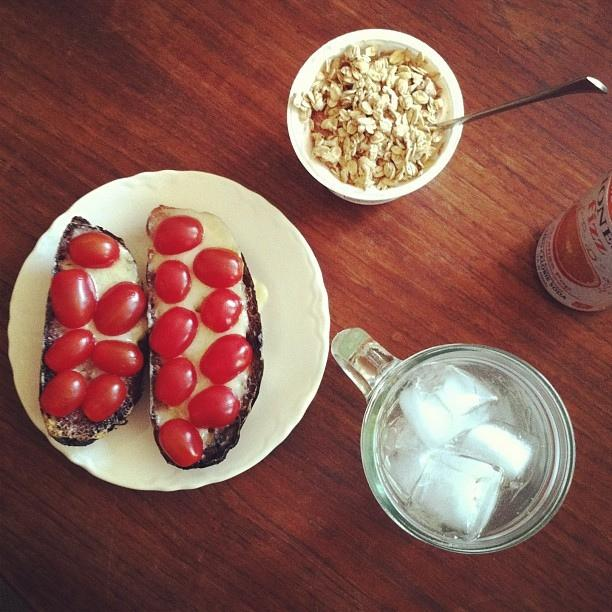tomato: (92, 281, 148, 336), (50, 268, 97, 330), (148, 305, 198, 358), (199, 334, 252, 384), (187, 384, 240, 429), (39, 370, 89, 416), (44, 329, 96, 373), (82, 374, 127, 423), (158, 418, 203, 467), (152, 215, 205, 256), (192, 246, 243, 288), (156, 357, 197, 407), (66, 232, 119, 268), (91, 340, 144, 376), (200, 288, 242, 332), (154, 260, 192, 304)
